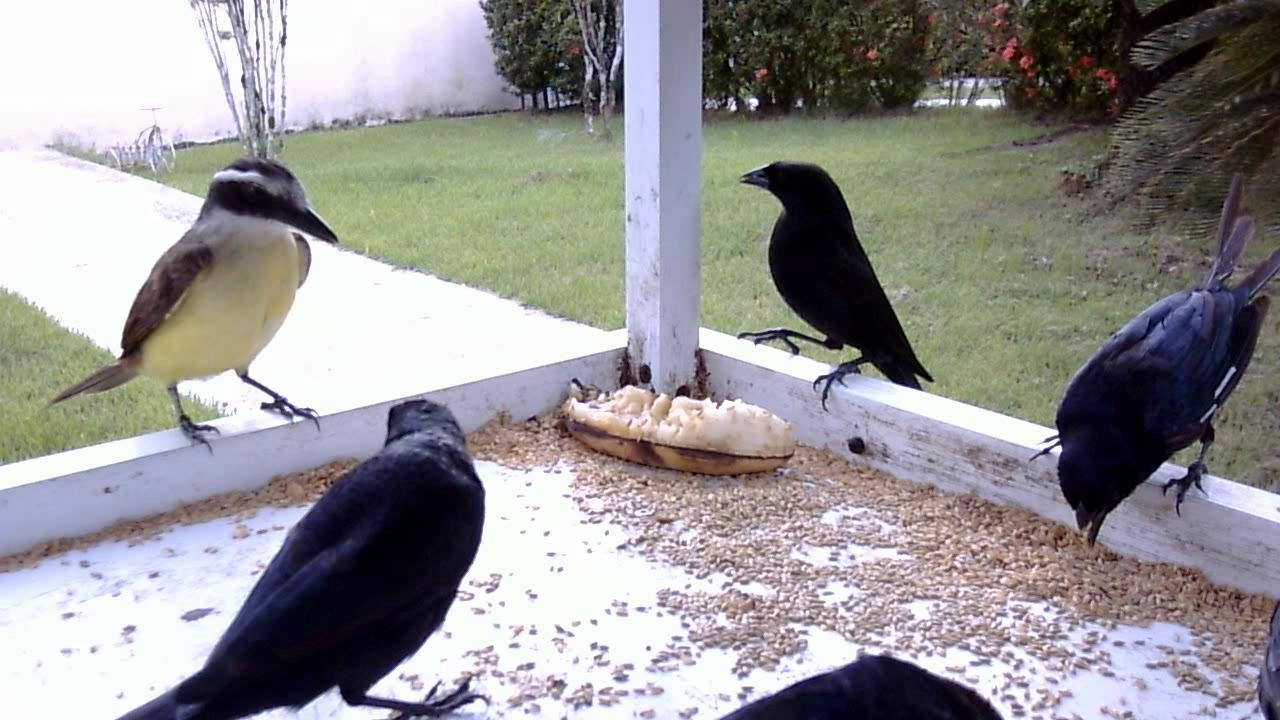bem_te_vi: (44, 146, 348, 474)
chupim: (96, 390, 510, 720), (1021, 214, 1280, 565), (733, 155, 937, 417)
